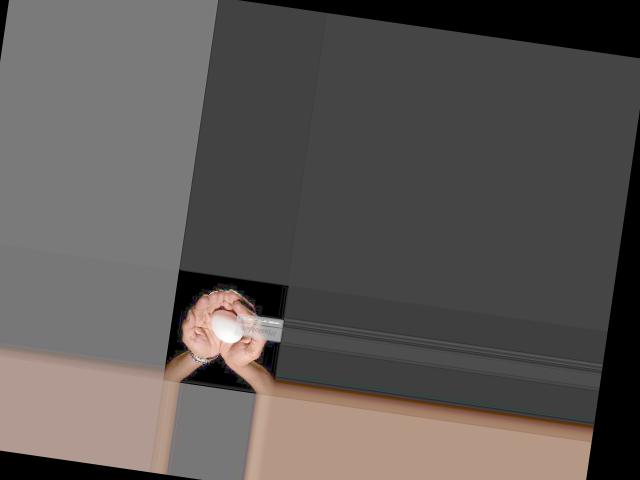egg: (207, 307, 245, 344)
